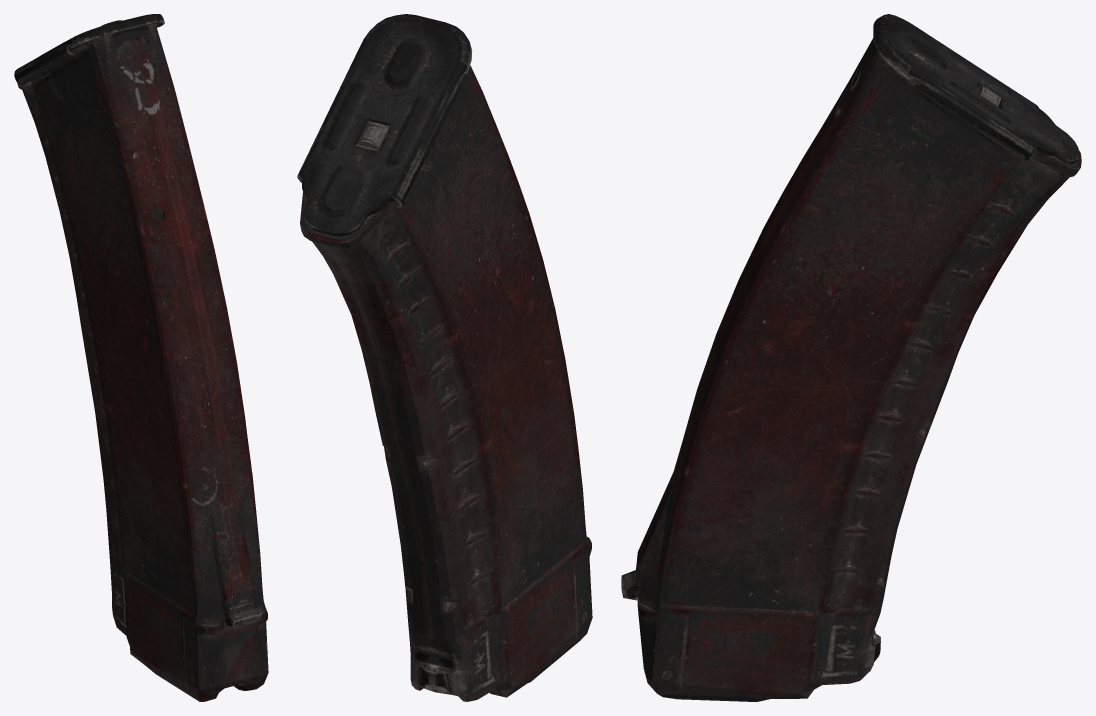
3 renders of one model, left to right at view 1: azimuth 30°, elevation 25°; view 2: azimuth 150°, elevation 25°; view 3: azimuth 270°, elevation 25°, orthographic. The views are drawn at different scales.
Visible parts, largest first — view 1: TW_5cbdaf89ae9215000e5b9c94_PZ_Import; view 2: TW_5cbdaf89ae9215000e5b9c94_PZ_Import; view 3: TW_5cbdaf89ae9215000e5b9c94_PZ_Import.
Part boxes in pixels (box(x1,y1,x2,y2)): TW_5cbdaf89ae9215000e5b9c94_PZ_Import: box(14, 14, 268, 701); TW_5cbdaf89ae9215000e5b9c94_PZ_Import: box(297, 14, 592, 701); TW_5cbdaf89ae9215000e5b9c94_PZ_Import: box(621, 14, 1081, 701).
Size of the model in its own units: 0.0182 by 0.0749 by 0.1188.
Materials: 1 (1 with a texture image).
